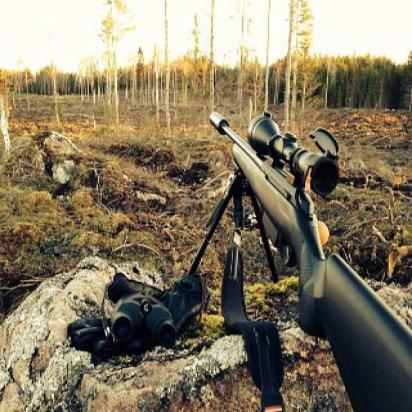Gun: (198, 102, 411, 410)
